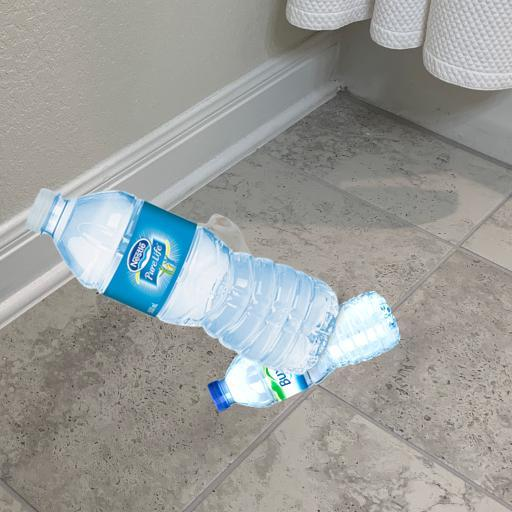bottle: (21, 165, 409, 423)
